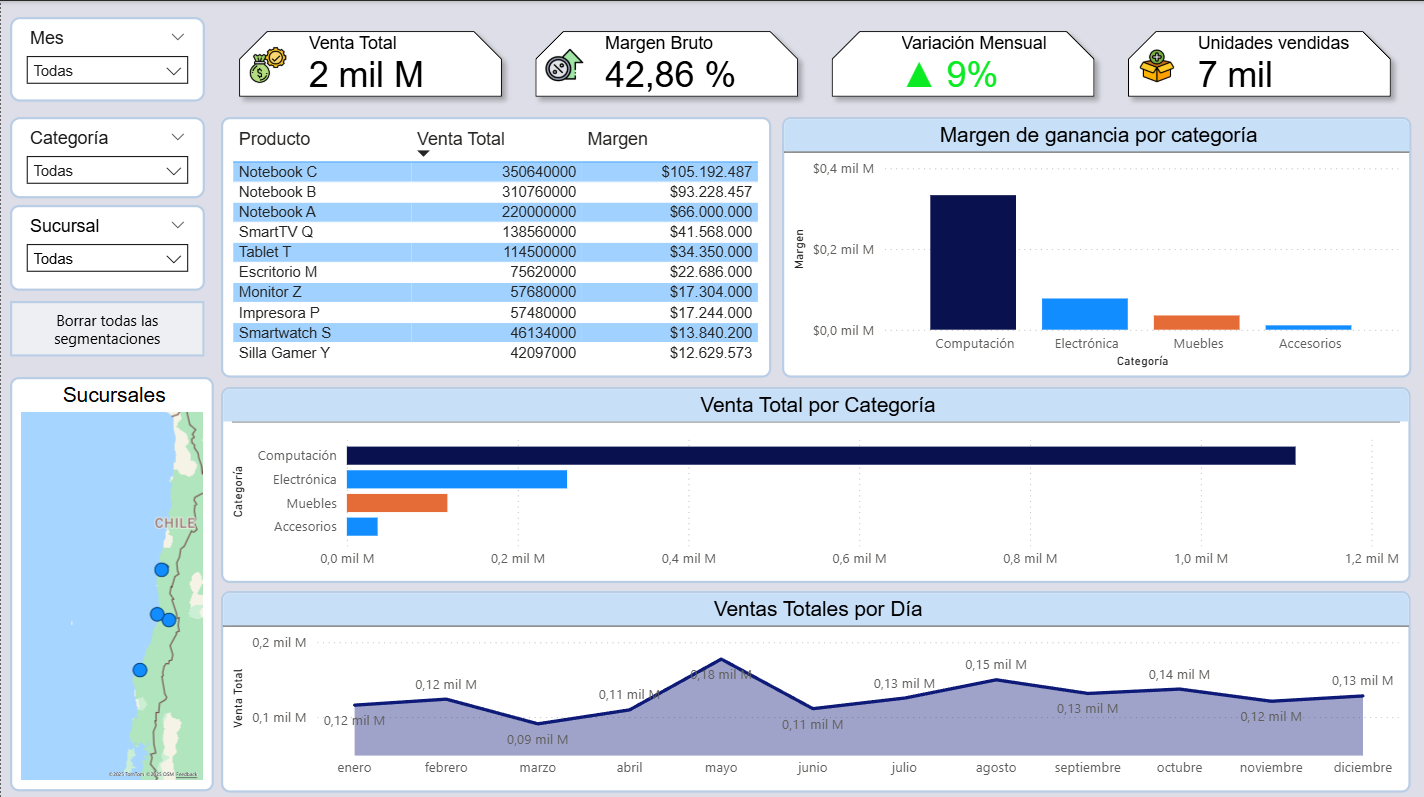

This screenshot's page, from the dashboard's own definition file:
{"tool":"powerbi","page":{"name":"Página 1","canvas":[1280,720],"ordinal":0},"visuals":[{"type":"cardVisual","fields":{"Data":["ventas.Ventas Total","ventas.%Margen","ventas.Variacion Mom%","ventas.Cantidad Vendidos"]},"box":[187.2,0,1088.7,113.3],"z":1000},{"type":"lineChart","title":"Ventas Totales por Día","fields":{"Y":["ventas.Ventas Total"],"Category":["ventas.Fecha.Variación.Jerarquía de fechas.Mes"]},"box":[197.3,529.7,1068.1,180.8],"z":2000},{"type":"barChart","fields":{"Category":["ventas.Categoría"],"Y":["ventas.Ventas Total"]},"box":[197.6,346.3,1067.9,175.7],"z":3000},{"type":"slicer","fields":{"Values":["ventas.Categoría"]},"box":[8.3,104,174.7,72.8],"z":4000},{"type":"azureMap","title":"Sucursales","fields":{"Category":["ventas.Sucursal"]},"box":[8.3,337.9,183,372.3],"z":5000},{"type":"tableEx","fields":{"Values":["ventas.Producto","ventas.Ventas Total","ventas.Margen"]},"box":[197.6,104,493.9,234],"z":5001},{"type":"clusteredColumnChart","title":"Margen de ganancia  por categoría","fields":{"Category":["ventas.Categoría"],"Y":["ventas.Margen"]},"box":[700.8,104,564.6,234],"z":5002},{"type":"slicer","fields":{"Values":["ventas.Sucursal"]},"box":[8.3,183,174.7,76.9],"z":5003},{"type":"slicer","fields":{"Values":["ventas.Fecha.Variación.Jerarquía de fechas.Mes"]},"box":[8.3,14.6,174.7,75.9],"z":5004},{"type":"actionButton","box":[8.3,269.3,174.7,49.9],"z":5005}]}

Visuals, with their boxes in screenshot pixels (x1, y1, x2, y2), scaled from the page's 1280x720 canvas onto the 1424x797 screenshot:
cardVisual - ventas.Ventas Total x ventas.%Margen: (208, 0, 1419, 125)
"Ventas Totales por Día" lineChart: (219, 586, 1408, 786)
barChart - ventas.Categoría x ventas.Ventas Total: (220, 383, 1408, 578)
slicer - ventas.Categoría: (9, 115, 204, 196)
"Sucursales" azureMap: (9, 374, 213, 786)
tableEx - ventas.Producto x ventas.Ventas Total: (220, 115, 769, 374)
"Margen de ganancia  por categoría" clusteredColumnChart: (780, 115, 1408, 374)
slicer - ventas.Sucursal: (9, 203, 204, 288)
slicer - ventas.Fecha.Variación.Jerarquía de fechas.Mes: (9, 16, 204, 100)
actionButton: (9, 298, 204, 353)
